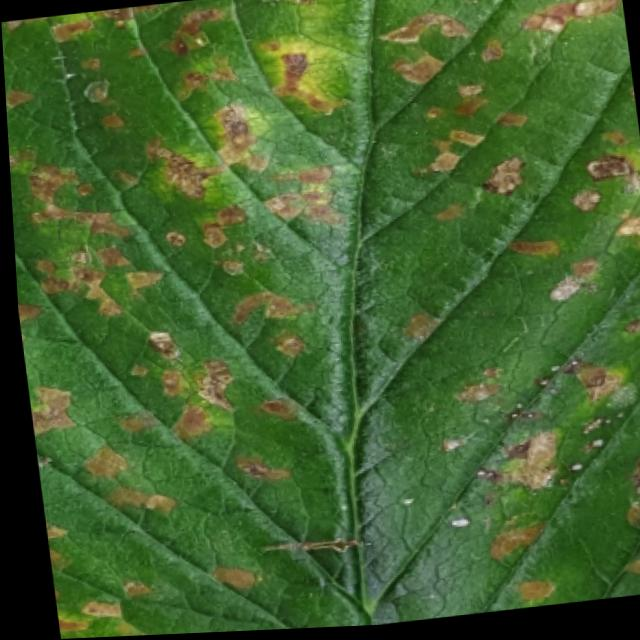Angular Leafspot: (1, 0, 640, 639)
